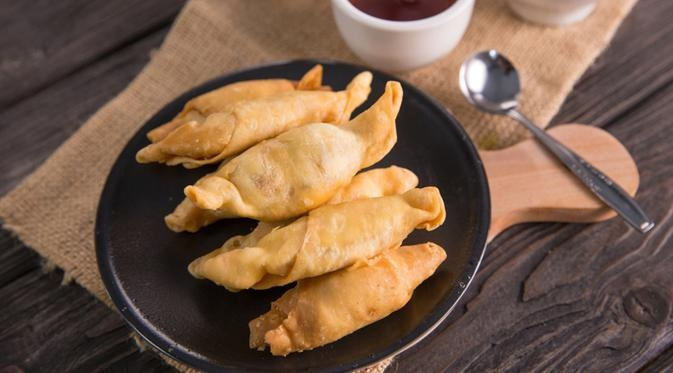pisang_molen: (185, 79, 410, 219), (195, 185, 453, 290), (247, 242, 446, 358)
